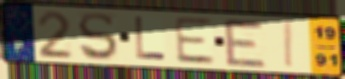2: (35, 9, 75, 60)
E: (221, 17, 269, 70), (173, 15, 218, 66)
I: (283, 20, 296, 70)
L: (133, 15, 168, 62)
S: (76, 11, 121, 63)
